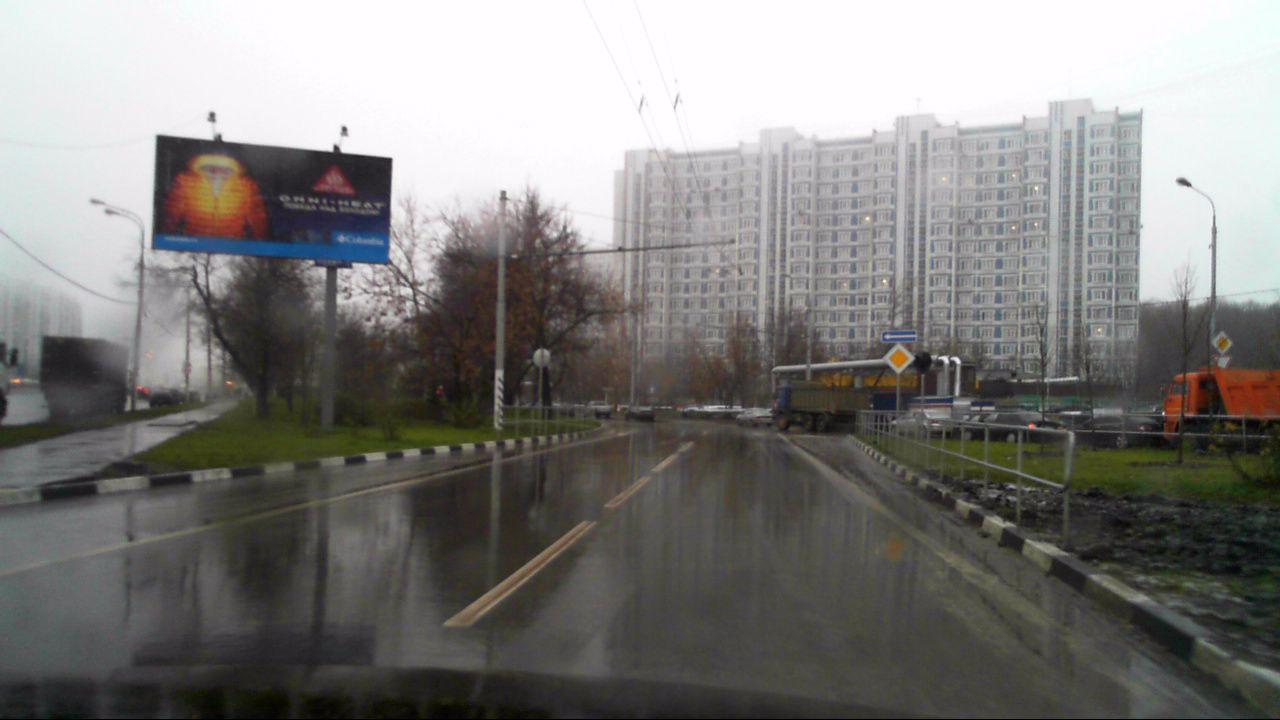main road: (1210, 330, 1233, 354)
